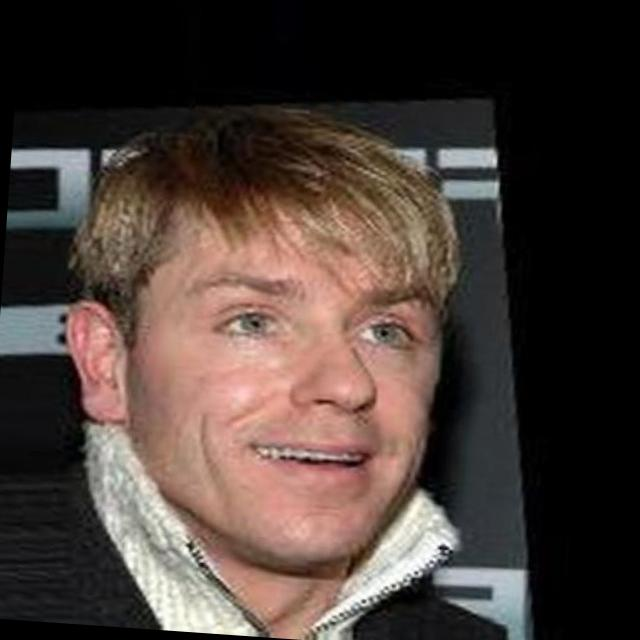bareface: (125, 192, 446, 558)
